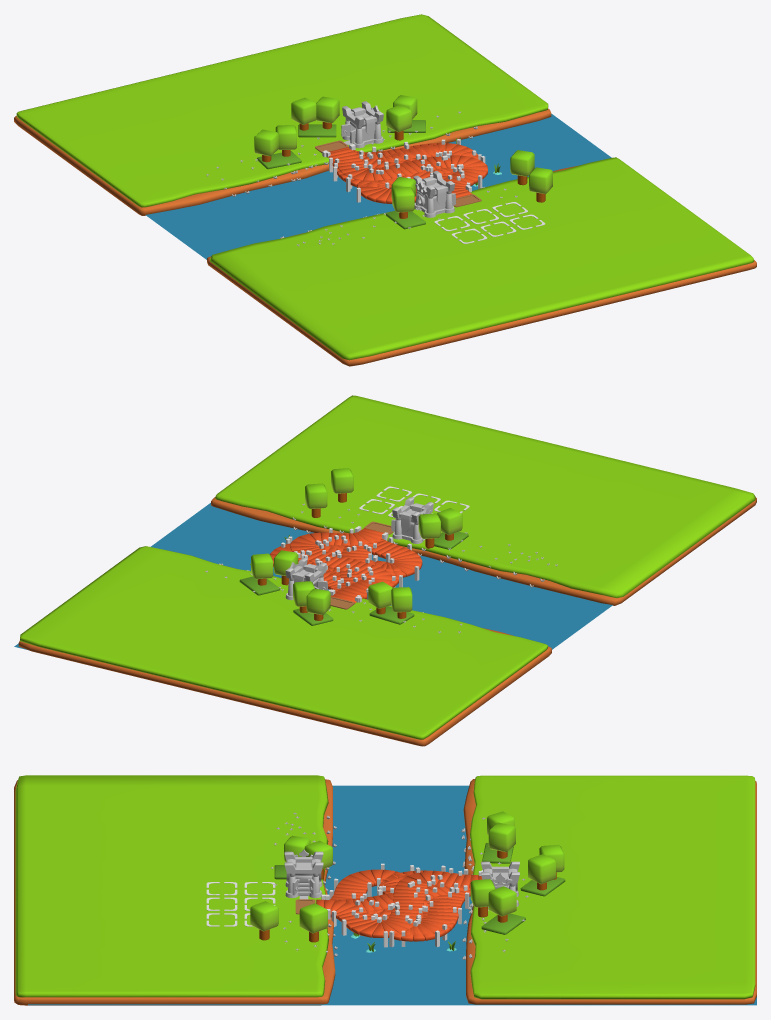
The model's file is Map3-levels.fbx.
3 views of the same model, one above another, from view 1: azimuth 30°, elevation 25°; view 2: azimuth 150°, elevation 25°; view 3: azimuth 270°, elevation 25° (orthographic). The views are drawn at different scales.
Parts seen in each view (by area): view 1: Cube.032, Cube.030, Plane.002, Cube.029, Cube.033, Yol2, Yol4, Plane.018, Plane.017, Yol5, Yol3, Cube.085 (+7 smaller); view 2: Cube.032, Cube.030, Plane.002, Cube.029, Cube.033, Yol2, Yol4, Plane.017, Plane.018, Yol1, Yol3, Cube.088 (+6 smaller); view 3: Cube.032, Cube.030, Plane.002, Cube.033, Yol2, Yol4, Cube.029, Plane.017, Yol5, Yol1, Plane.018, Yol3 (+10 smaller).
Part boxes in pixels (x1,y1,x2,y2): Cube.032: [210, 157, 754, 360]; Cube.030: [16, 14, 548, 207]; Plane.002: [146, 113, 611, 259]; Cube.029: [14, 108, 551, 215]; Cube.033: [207, 165, 756, 366]; Yol2: [324, 146, 487, 197]; Yol4: [326, 139, 481, 203]; Plane.018: [341, 101, 383, 148]; Plane.017: [413, 171, 455, 217]; Yol5: [322, 139, 476, 180]; Yol3: [324, 145, 471, 192]; Cube.085: [386, 105, 411, 140]; Cube.032: [215, 395, 755, 597]; Cube.030: [20, 546, 547, 739]; Plane.002: [14, 503, 612, 650]; Cube.029: [18, 568, 551, 746]; Cube.033: [211, 497, 756, 605]; Yol2: [288, 526, 395, 601]; Yol4: [270, 528, 422, 596]; Plane.017: [391, 497, 433, 543]; Plane.018: [285, 557, 327, 600]; Yol1: [330, 527, 385, 602]; Yol3: [301, 526, 402, 602]; Cube.088: [418, 513, 440, 548]; Cube.032: [15, 775, 328, 997]; Cube.030: [470, 775, 755, 999]; Plane.002: [28, 785, 756, 1005]; Cube.033: [14, 779, 335, 1005]; Yol2: [316, 867, 482, 947]; Yol4: [321, 863, 482, 947]; Cube.029: [463, 779, 756, 1004]; Plane.017: [284, 849, 323, 899]; Yol5: [326, 870, 467, 946]; Yol1: [324, 870, 483, 912]; Plane.018: [481, 861, 519, 907]; Yol3: [324, 865, 468, 922].
Size of the model in its own units: 14858 by 1719 by 20999.
